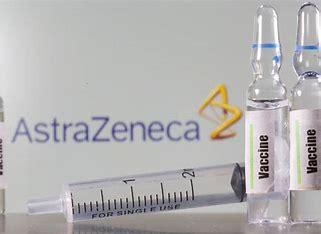Syringe: (242, 2, 290, 234), (290, 0, 320, 232)
